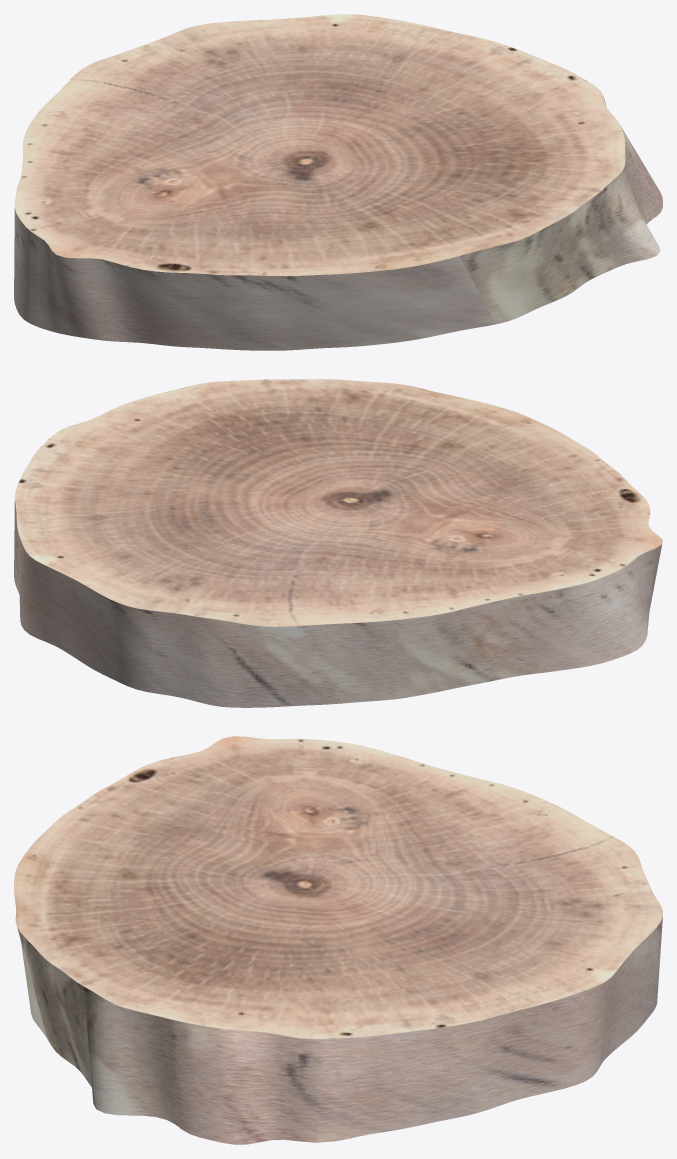
The model's file is simple_wood.glb.
3 renders of one model, top to bottom at view 1: azimuth 30°, elevation 25°; view 2: azimuth 150°, elevation 25°; view 3: azimuth 270°, elevation 25°, orthographic. The views are drawn at different scales.
Visible parts, largest first — view 1: spate; view 2: spate; view 3: spate.
Boxes of the visible parts, x1,y1,x2,y2 form: spate: (14,14,662,350); spate: (14,379,662,707); spate: (14,736,662,1144).
Bounding box in the file's own units: 0.2783 × 0.0372 × 0.2392.
1 material, 1 textured.
